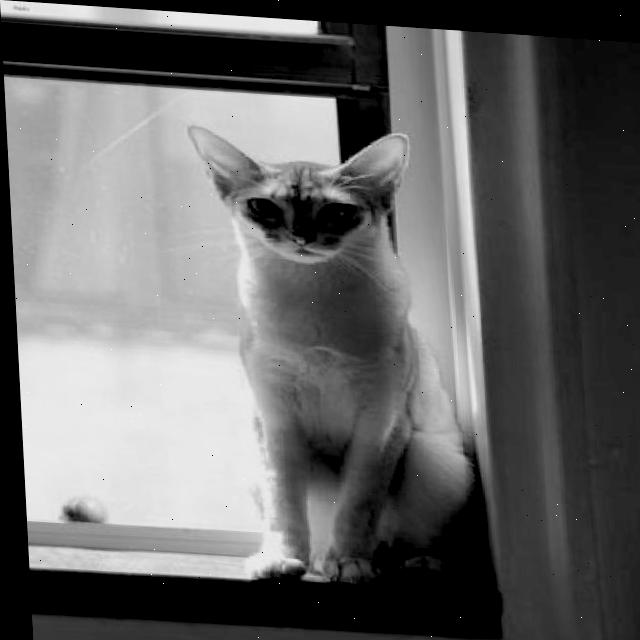Cat: (182, 116, 479, 594)
